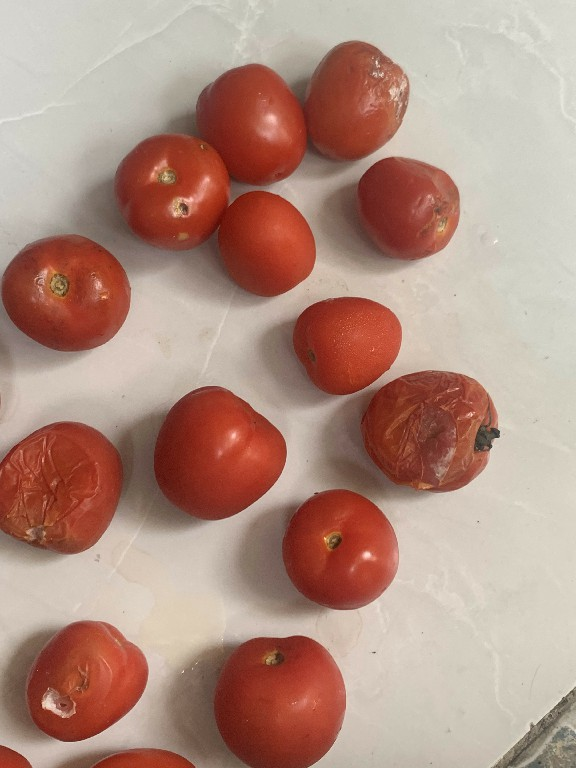NG: (16, 610, 161, 747), (0, 415, 131, 565), (359, 367, 506, 495), (108, 127, 238, 257), (300, 31, 415, 163), (353, 154, 459, 260)
OK: (141, 374, 287, 519), (212, 630, 356, 768), (0, 227, 141, 357), (277, 483, 406, 615), (193, 59, 312, 189), (286, 295, 408, 391), (219, 187, 317, 296)
